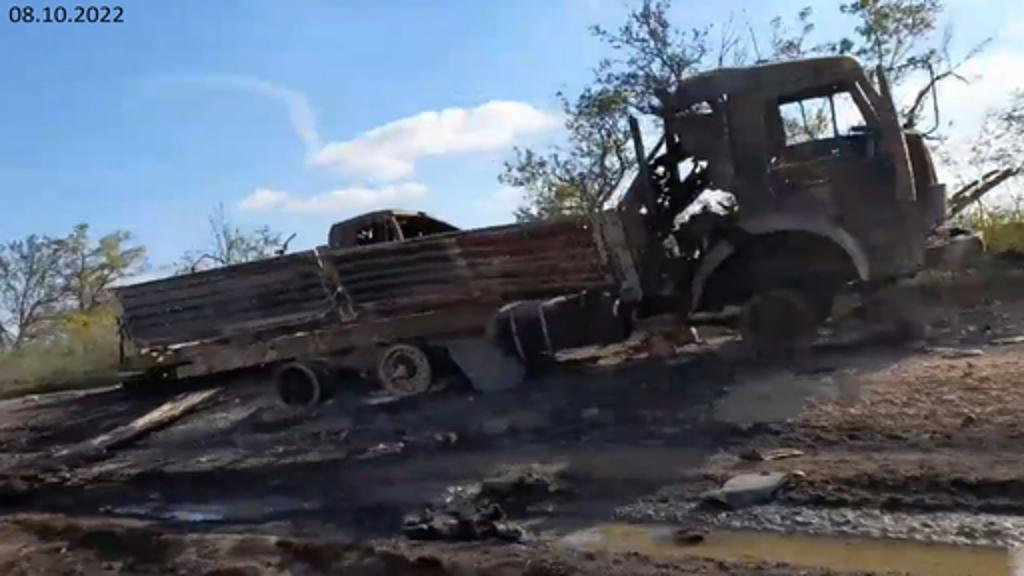TRUCK: (112, 36, 942, 428)
